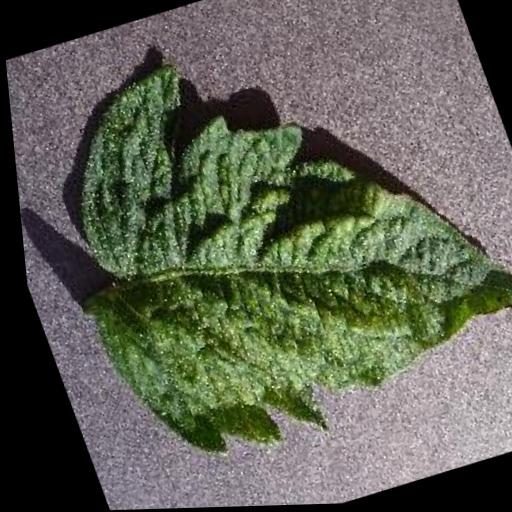Spider Mites: (2, 0, 512, 479)
